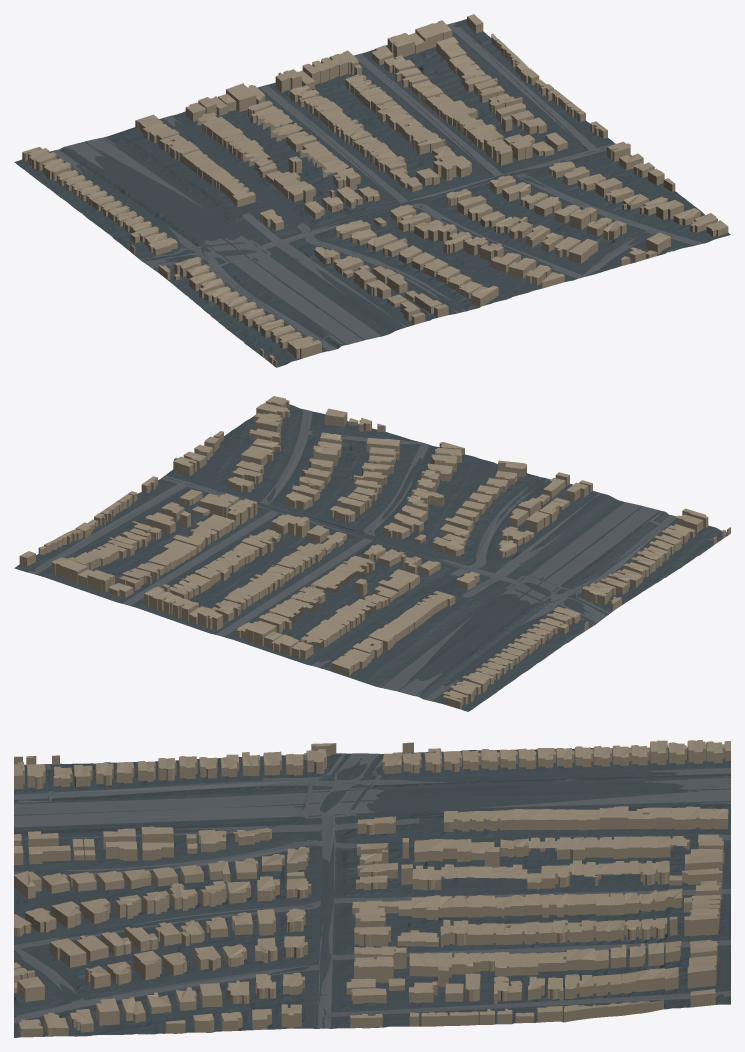
The model's file is epsg26910-1423-10872.lod0.glb.
3 renders of one model, top to bottom at view 1: azimuth 30°, elevation 25°; view 2: azimuth 150°, elevation 25°; view 3: azimuth 270°, elevation 25°, orthographic. The views are drawn at different scales.
Visible parts, largest first — view 1: epsg26910-1423-10872-lod0; view 2: epsg26910-1423-10872-lod0; view 3: epsg26910-1423-10872-lod0.
Part boxes in pixels (bbox=[...]): epsg26910-1423-10872-lod0: bbox=[14, 14, 730, 367]; epsg26910-1423-10872-lod0: bbox=[14, 396, 730, 711]; epsg26910-1423-10872-lod0: bbox=[14, 740, 730, 1037].
Bounding box in the file's own units: 384 × 45.68 × 384.
